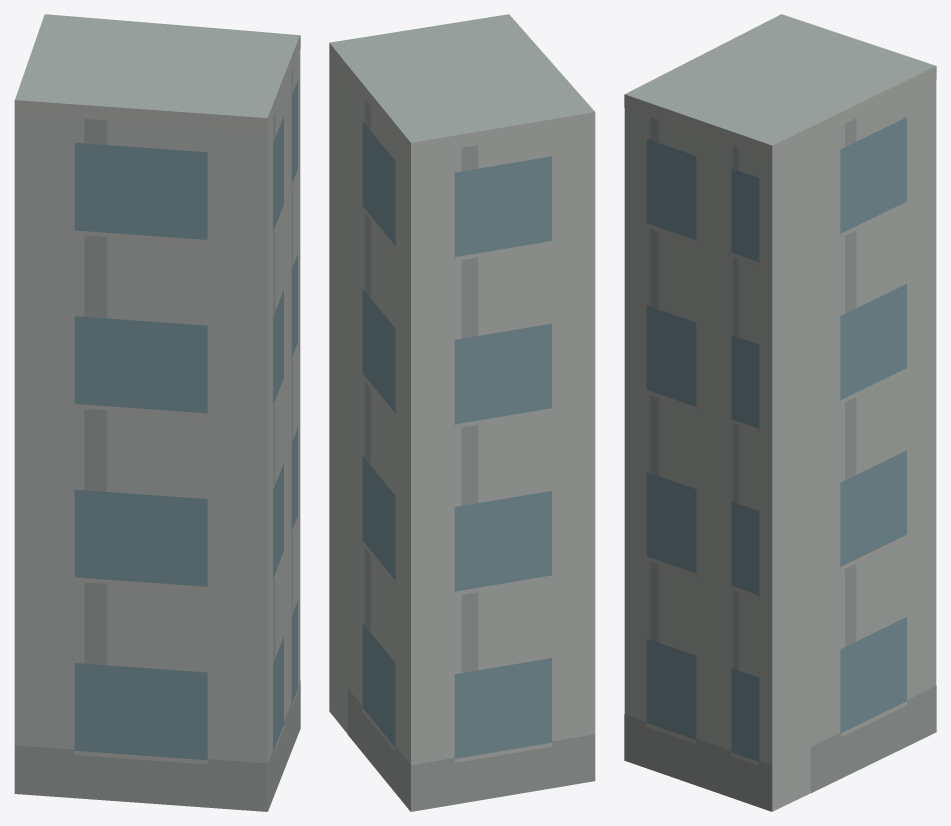
Rendered from survey-upis-32744380.glb.
3 renders of one model, left to right at view 1: azimuth 30°, elevation 25°; view 2: azimuth 150°, elevation 25°; view 3: azimuth 270°, elevation 25°, orthographic. The views are drawn at different scales.
Visible parts, largest first — view 1: survey-upis-32744380.tmp; view 2: survey-upis-32744380.tmp; view 3: survey-upis-32744380.tmp.
Part boxes in pixels (x1,y1,x2,y2): survey-upis-32744380.tmp: [14, 14, 300, 811]; survey-upis-32744380.tmp: [329, 14, 595, 811]; survey-upis-32744380.tmp: [624, 14, 936, 811].
Size of the model in its own units: 5.17 by 12.2 by 5.18.
